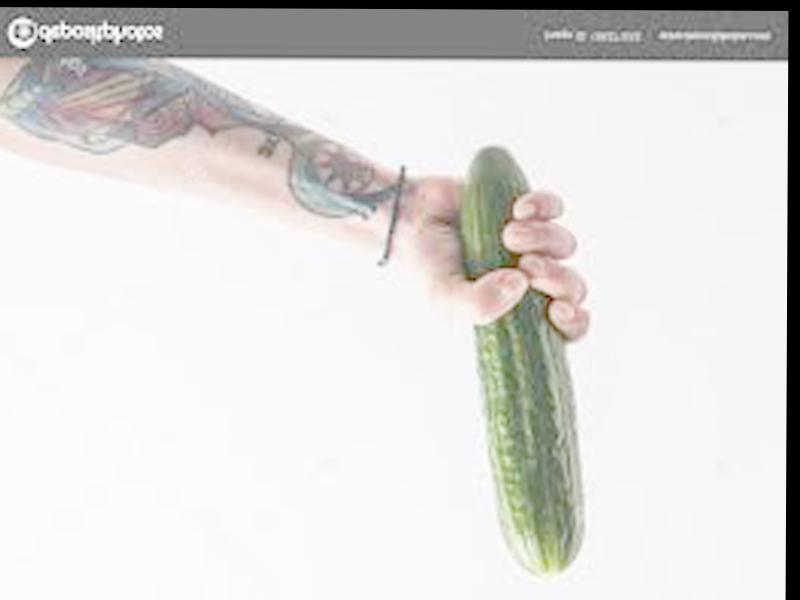Cucumber: (460, 149, 587, 581)
